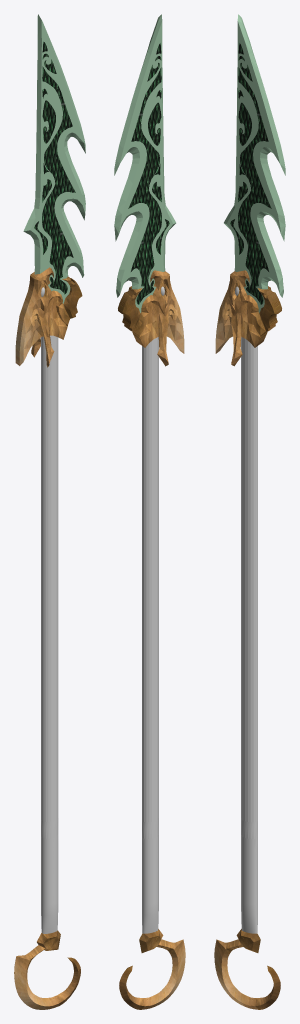
File: WaterSpear.fbx
3 renders of one model, left to right at view 1: azimuth 30°, elevation 25°; view 2: azimuth 210°, elevation 25°; view 3: azimuth 330°, elevation 25°, orthographic.
Parts seen in each view (by area): view 1: Long, Sword, Head, Last; view 2: Long, Sword, Head, Last; view 3: Long, Sword, Head, Last.
Part boxes in pixels (left/top/right/bottom): Long: left=41, top=335, right=58, bottom=933; Sword: left=23, top=14, right=85, bottom=303; Head: left=15, top=267, right=82, bottom=367; Last: left=14, top=930, right=80, bottom=1009; Long: left=142, top=337, right=158, bottom=933; Sword: left=114, top=14, right=175, bottom=312; Head: left=118, top=270, right=184, bottom=366; Last: left=119, top=929, right=185, bottom=1009; Long: left=241, top=337, right=257, bottom=933; Sword: left=224, top=14, right=285, bottom=312; Head: left=215, top=270, right=281, bottom=366; Last: left=214, top=929, right=280, bottom=1009.
Size of the model in its own units: 6.17 by 82.02 by 2.7.
